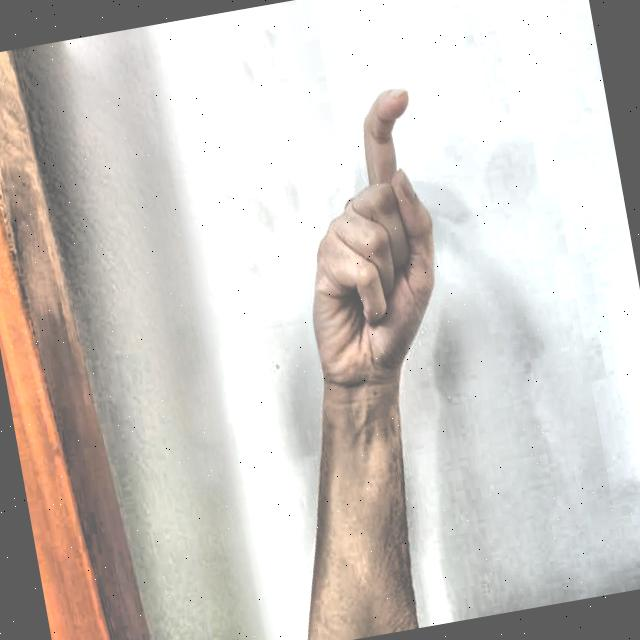E: (247, 54, 482, 413)
